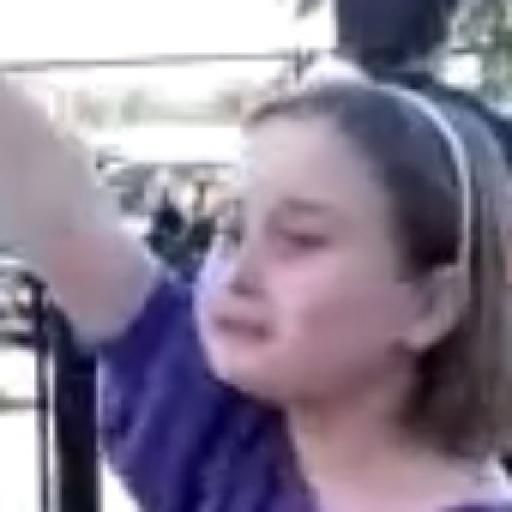Autism: (142, 58, 490, 482)
